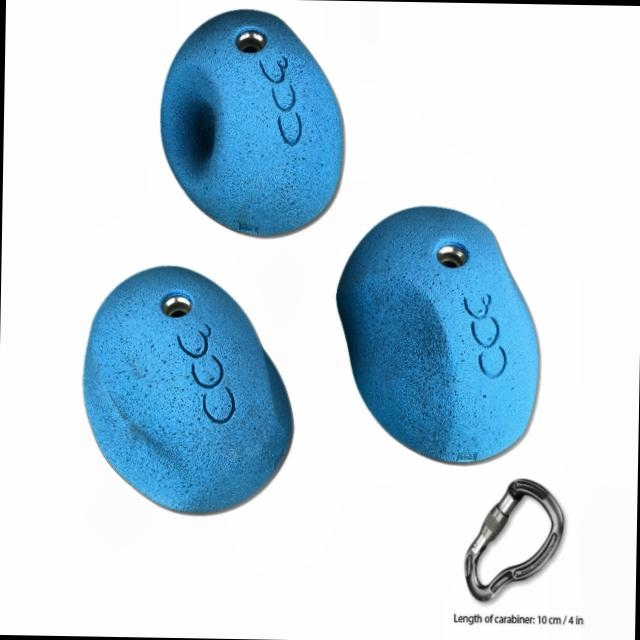Hold: (84, 264, 296, 514), (336, 207, 542, 464), (150, 8, 347, 236)
